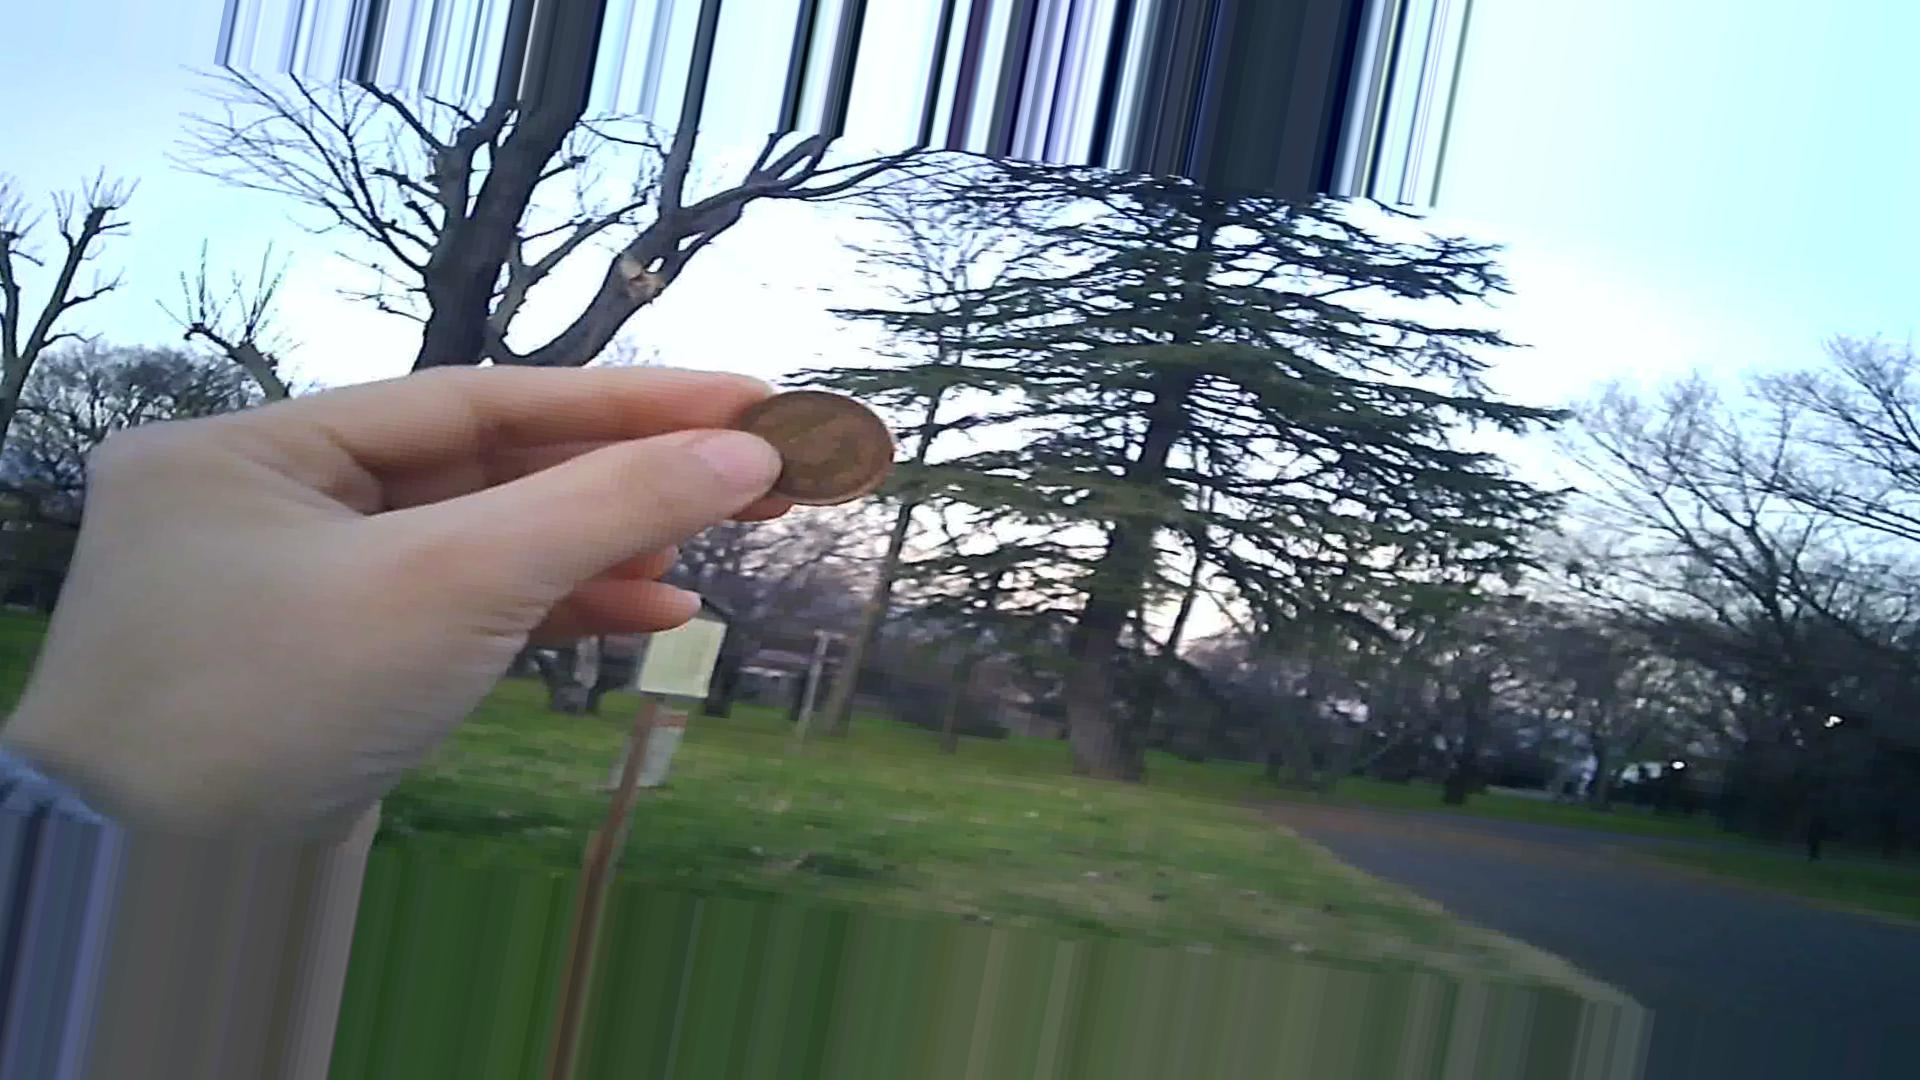10 Yen: (721, 378, 893, 506)
